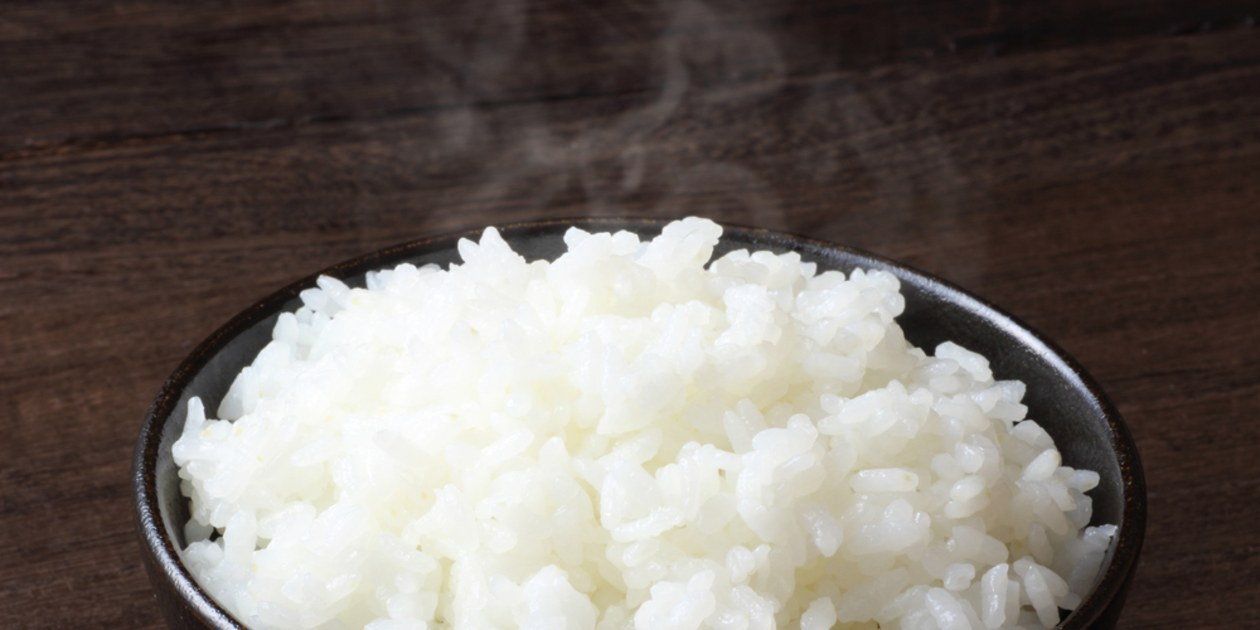rice: (153, 230, 1126, 630)
